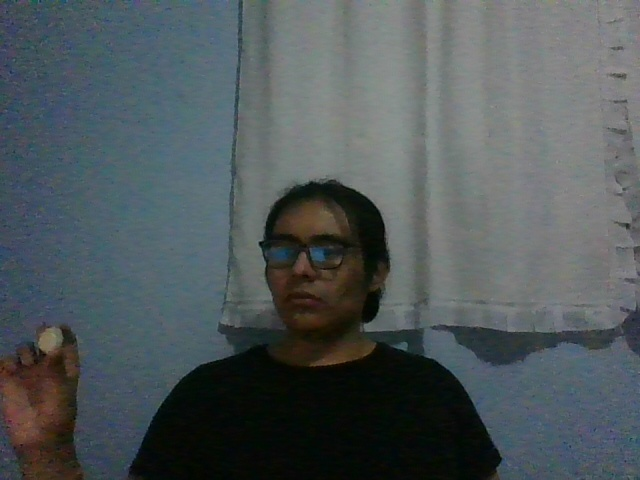goma: (37, 327, 64, 355)
